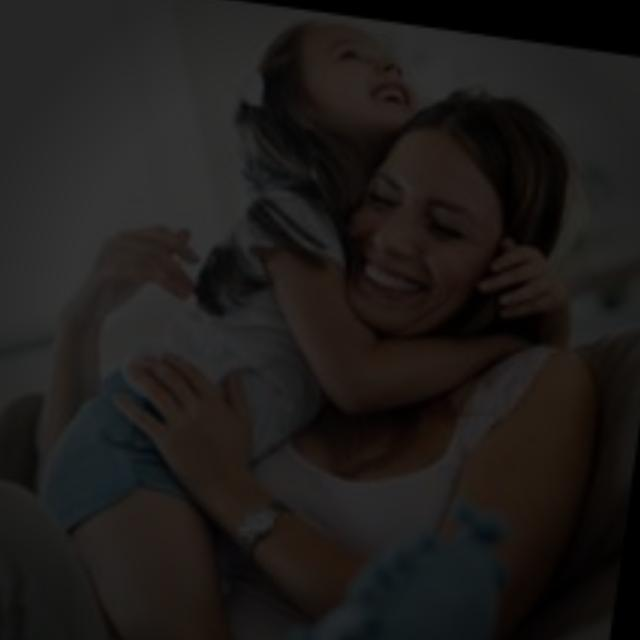Happy: (309, 136, 597, 332), (232, 33, 444, 167)
